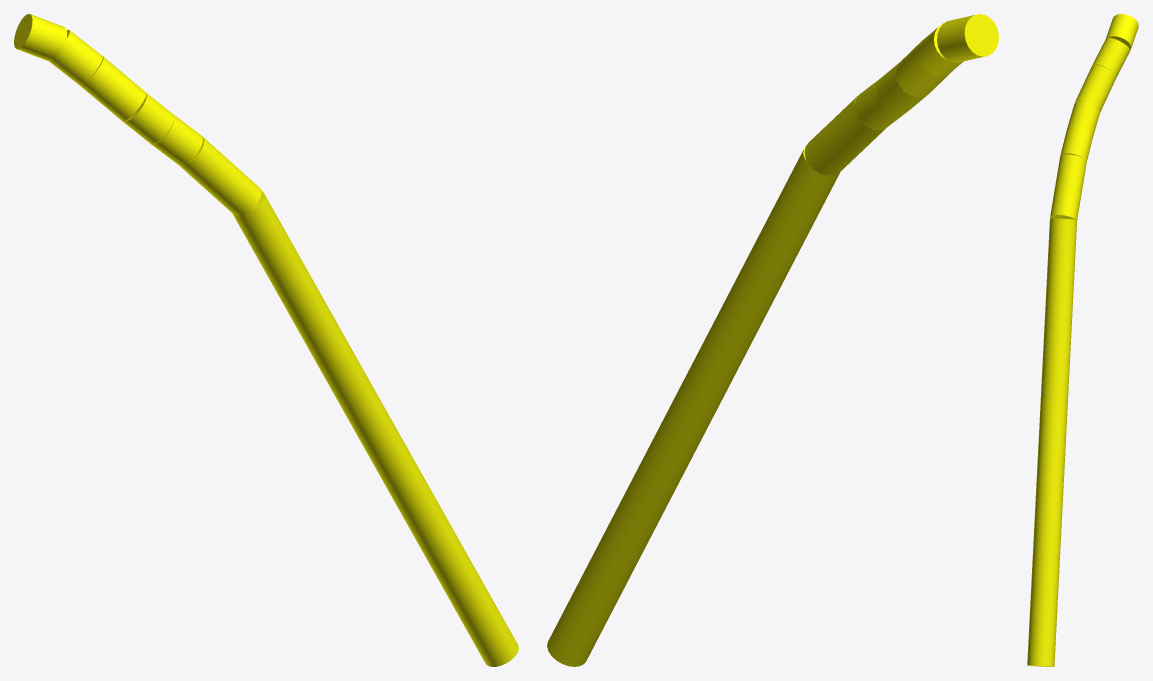
3 views of the same model, side by side, from view 1: azimuth 30°, elevation 25°; view 2: azimuth 150°, elevation 25°; view 3: azimuth 270°, elevation 25° (orthographic). The views are drawn at different scales.
Visible parts, largest first — view 1: Cylinder(Clone) (×7); view 2: Cylinder(Clone) (×7); view 3: Cylinder(Clone) (×7).
Part boxes in pixels (x1,y1,x2,y2): Cylinder(Clone) (×7): (14, 14, 518, 666); Cylinder(Clone) (×7): (547, 14, 998, 666); Cylinder(Clone) (×7): (1027, 14, 1138, 666).
Bounding box in the file's own units: 0.136 × 0.2068 × 0.0409.
